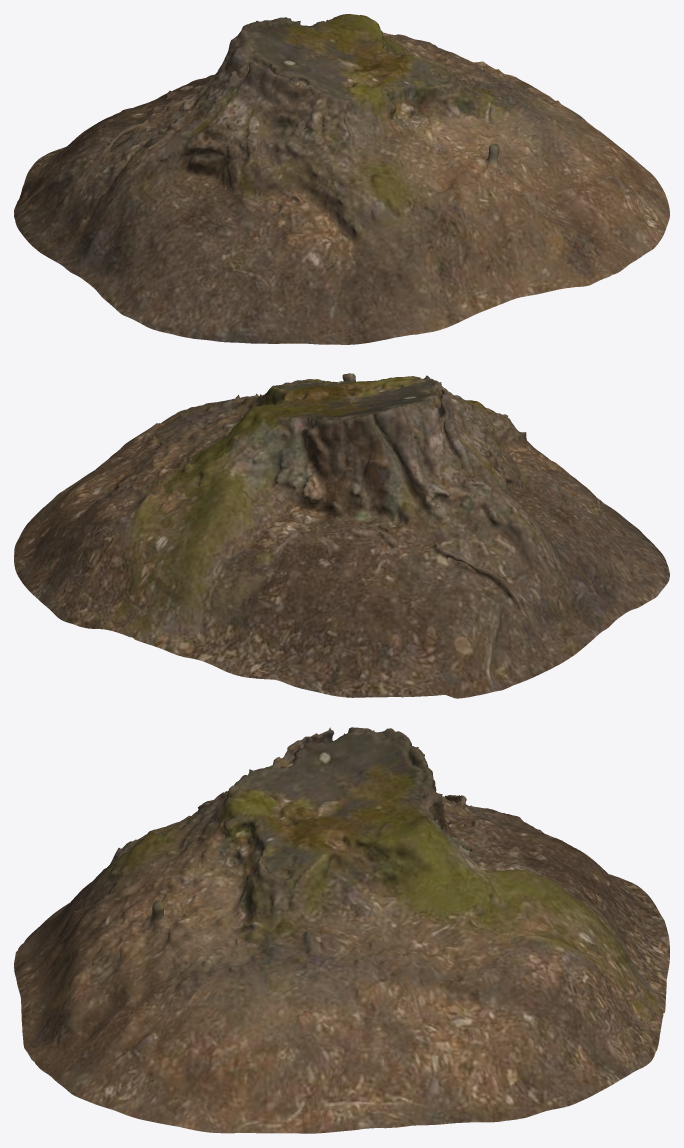
3 renders of one model, top to bottom at view 1: azimuth 30°, elevation 25°; view 2: azimuth 150°, elevation 25°; view 3: azimuth 270°, elevation 25°, orthographic. The views are drawn at different scales.
Parts seen in each view (by area): view 1: tree_stump_02; view 2: tree_stump_02; view 3: tree_stump_02.
Part boxes in pixels (x1,y1,x2,y2): tree_stump_02: (14,14,669,344); tree_stump_02: (14,373,669,698); tree_stump_02: (14,727,669,1133).
Size of the model in its own units: 1.52 by 0.5221 by 1.39.
1 material, 1 textured.
